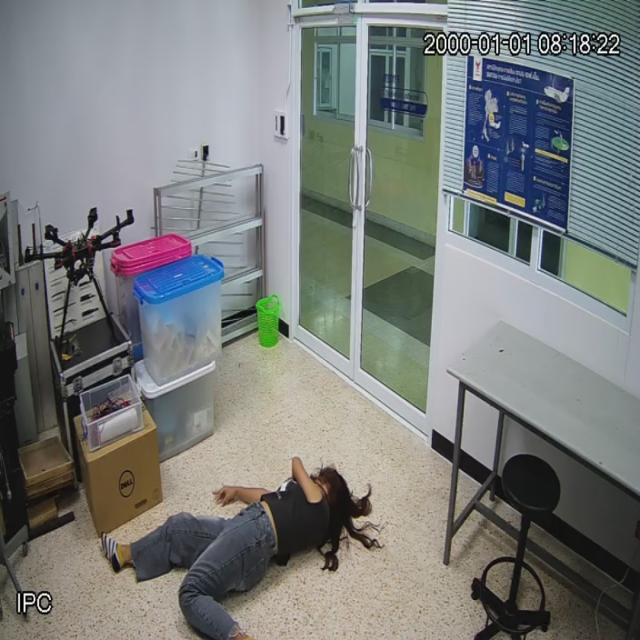fall: (101, 450, 379, 640)
